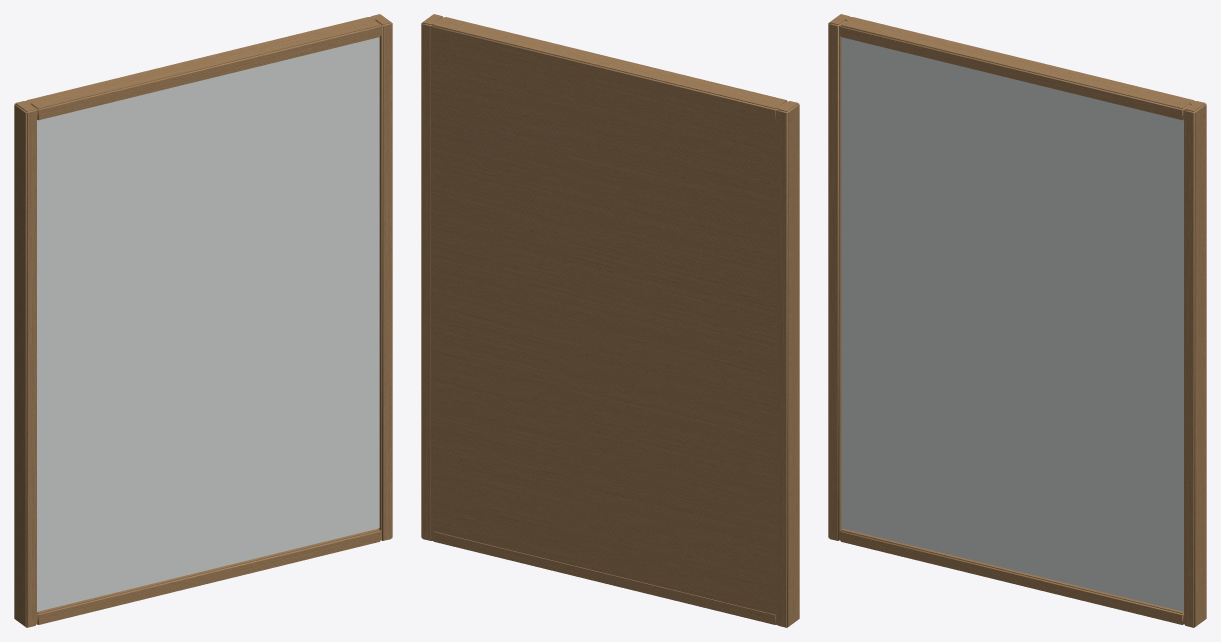
Rendered from country.mirror.gltf.
The picture shows the model from 3 angles, left to right: view 1: azimuth 30°, elevation 25°; view 2: azimuth 150°, elevation 25°; view 3: azimuth 330°, elevation 25°; orthographic projection.
Parts seen in each view (by area): view 1: country.mirror.backing; view 2: country.mirror.backing; view 3: country.mirror.backing.
Boxes of the visible parts, bbox=[...] form: country.mirror.backing: bbox=[14, 14, 392, 627]; country.mirror.backing: bbox=[421, 14, 799, 627]; country.mirror.backing: bbox=[828, 14, 1206, 627].
Bounding box in the file's own units: 0.58 × 0.78 × 0.035.
Materials: 3 (1 with a texture image).
